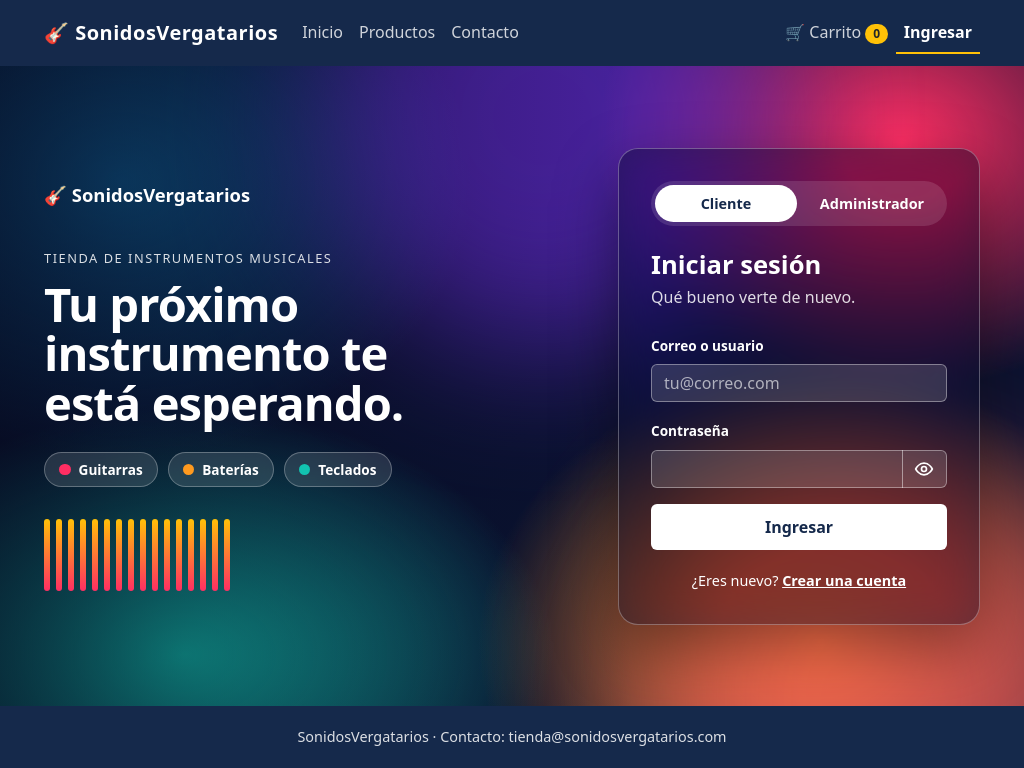
Test: cuentas de cliente › exige correo o usuario y contraseña al ingresar como cliente
The width and height of the screenshot is (1024, 768).
Click the button "Ingresar" at x=799, y=527, box [651,504,947,550]
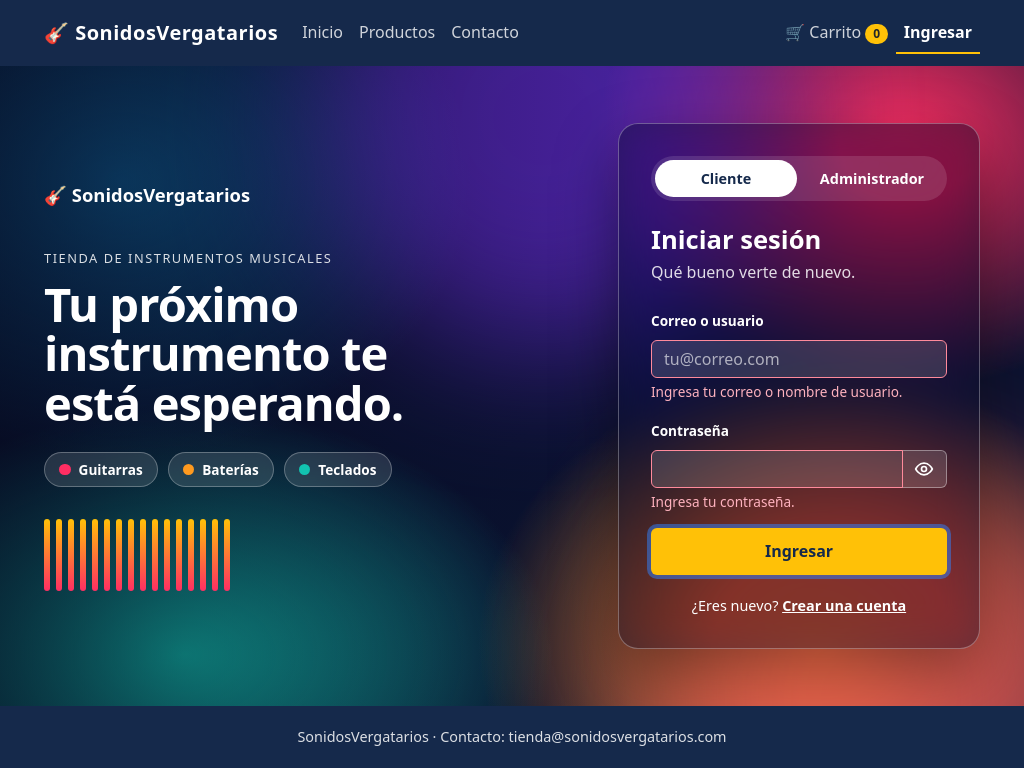
Now the text "Ingresa tu correo o nombre de usuario." is shown, box [651,382,902,401]
Now the text "Ingresa tu contraseña." is shown, box [651,492,795,511]
